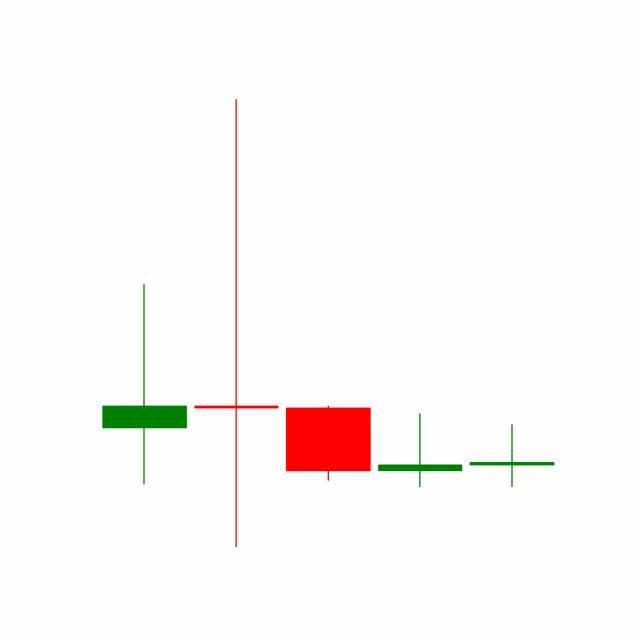Gravestone Doji: (374, 413, 468, 489)
